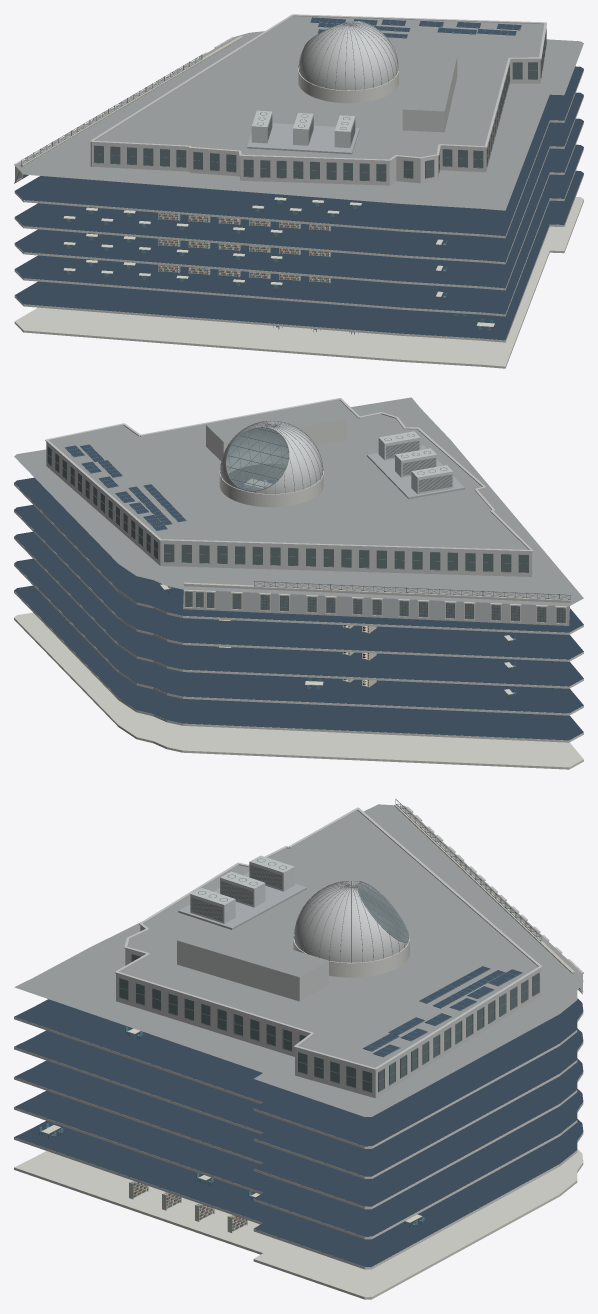
Rendered from lrb-interior-3be9fa95da46.glb.
3 views of the same model, one above another, from view 1: azimuth 30°, elevation 25°; view 2: azimuth 150°, elevation 25°; view 3: azimuth 270°, elevation 25° (orthographic). The views are drawn at different scales.
Visible parts, largest first — view 1: LRB.001; view 2: LRB.001; view 3: LRB.001.
Part boxes in pixels (bbox=[...]): LRB.001: bbox=[14, 14, 583, 368]; LRB.001: bbox=[14, 397, 583, 769]; LRB.001: bbox=[14, 798, 583, 1299].
Bounding box in the file's own units: 89.08 × 36.89 × 68.61.
